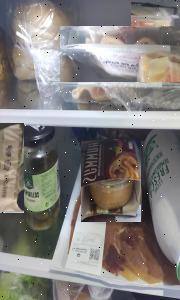Carne pavo: (60, 26, 180, 82)
Leche: (142, 126, 180, 284)
Lechuga/Endivia: (0, 271, 48, 300)
